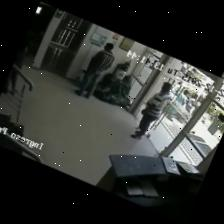person: (130, 82, 170, 139), (74, 43, 113, 98), (166, 90, 187, 121), (2, 69, 16, 94), (184, 94, 197, 112), (191, 99, 202, 114)
